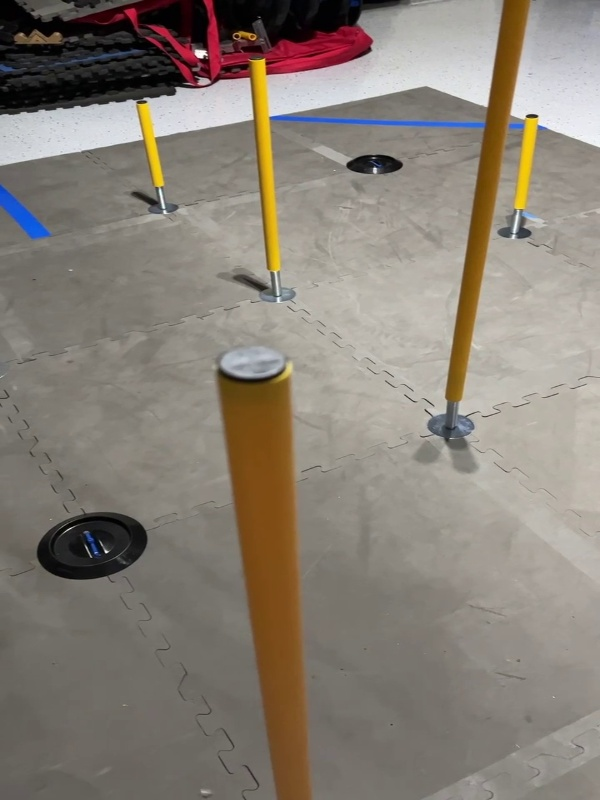top: (209, 340, 292, 387)
